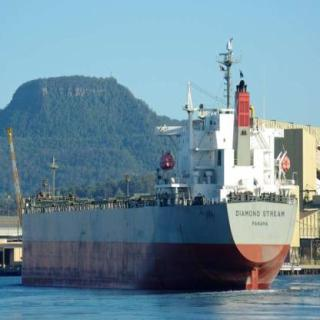Bulk Carrier: (11, 75, 304, 290)
